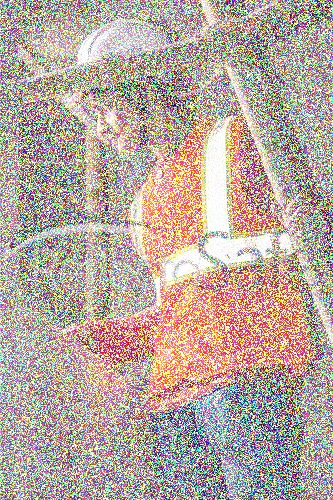helmet: (70, 16, 180, 162)
vest: (128, 112, 312, 369)
